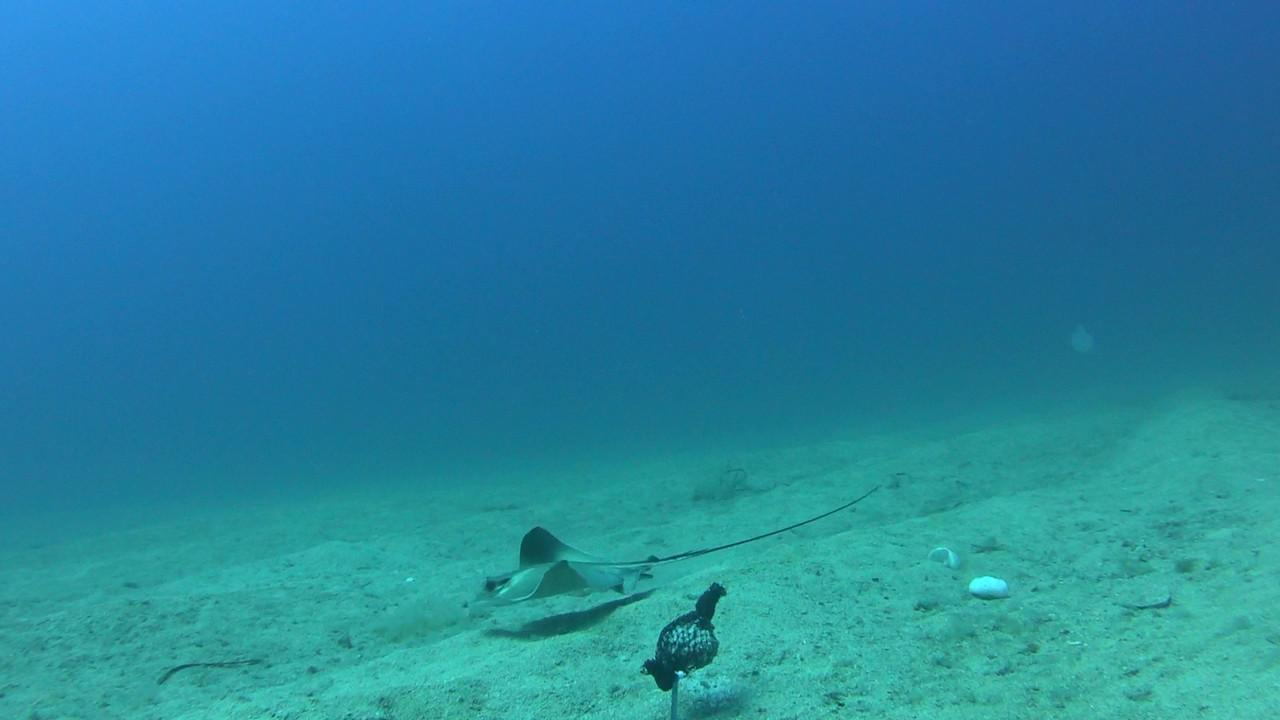myliobatis: (461, 454, 888, 612)
